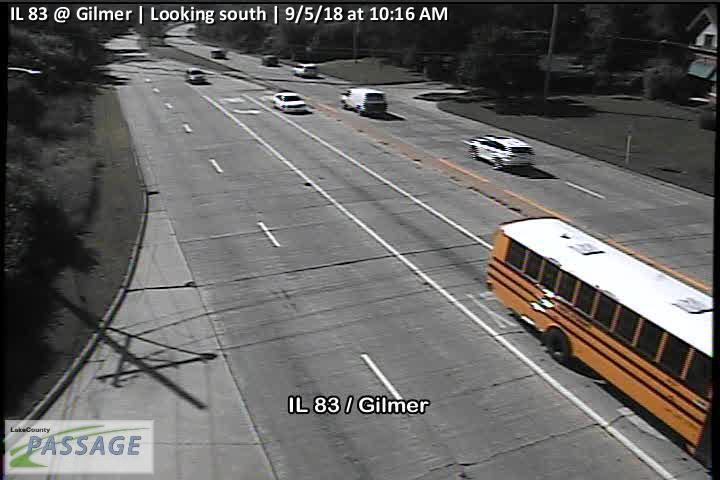Bus: (485, 218, 720, 480)
SUV: (469, 134, 535, 172), (340, 87, 388, 116), (295, 62, 319, 78)
Sedan: (272, 91, 308, 114), (184, 68, 207, 83)
